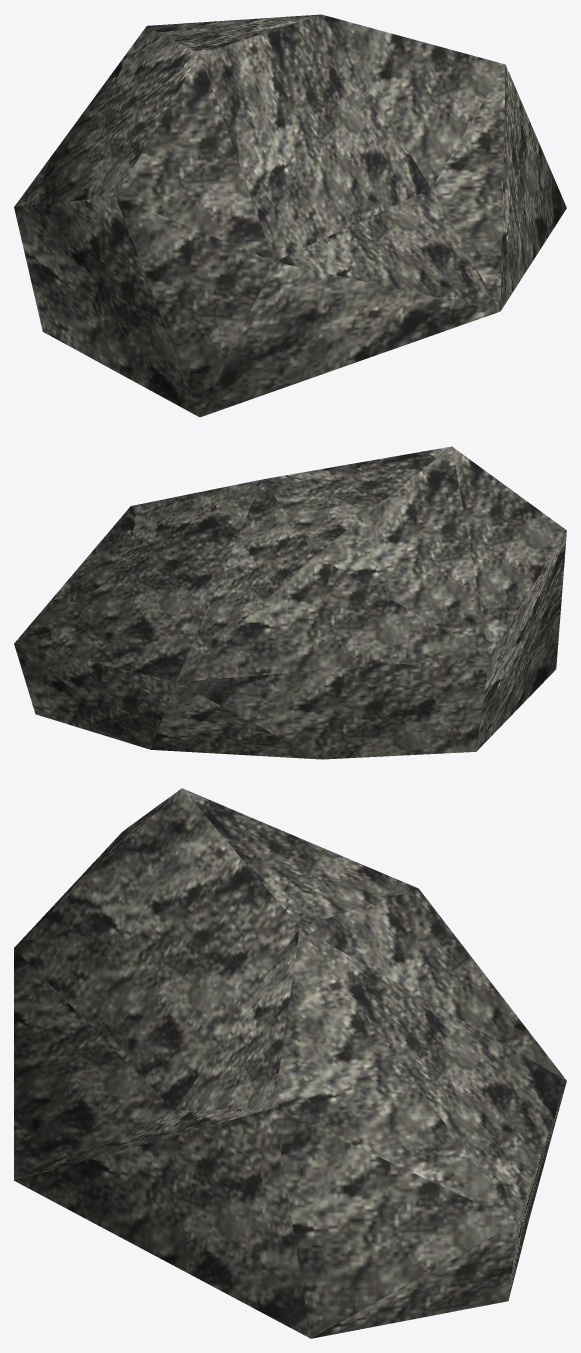
File: shoreline_boulder_0.glb
3 renders of one model, top to bottom at view 1: azimuth 30°, elevation 25°; view 2: azimuth 150°, elevation 25°; view 3: azimuth 270°, elevation 25°, orthographic. The views are drawn at different scales.
Visible parts, largest first — view 1: shoreline_boulder_0; view 2: shoreline_boulder_0; view 3: shoreline_boulder_0.
Part boxes in pixels (x1,y1,x2,y2): shoreline_boulder_0: (14, 14, 566, 417); shoreline_boulder_0: (14, 446, 566, 759); shoreline_boulder_0: (14, 788, 566, 1338).
Bounding box in the file's own units: 4.51 × 2.39 × 3.68.
1 material, 1 textured.
